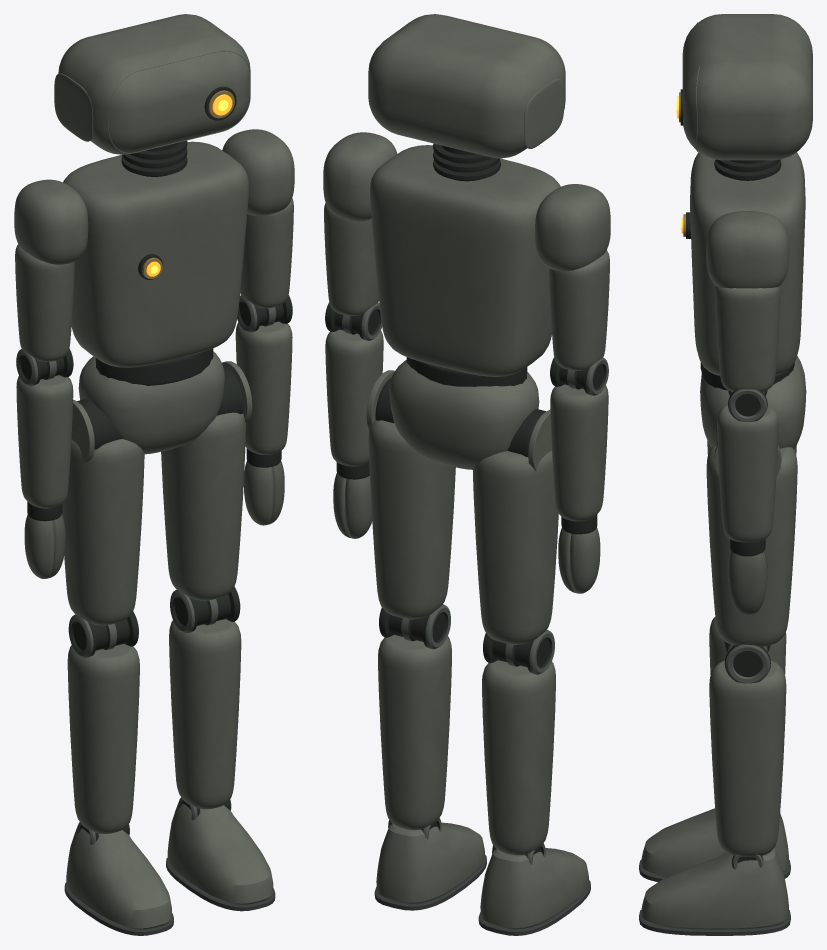
Rendered from workstation-guide.glb.
3 renders of one model, left to right at view 1: azimuth 30°, elevation 25°; view 2: azimuth 150°, elevation 25°; view 3: azimuth 270°, elevation 25°, orthographic. The views are drawn at different scales.
Visible parts, largest first — view 1: TorsoShell, HeadShell, ThighShell_R, ThighShell_L, CalfShell_L, CalfShell_R, PelvisShell, FootShell_L, FootShell_R, ForearmShell_R, ForearmShell_L, UpperArmShell_R (+20 smaller); view 2: TorsoShell, HeadShell, ThighShell_R, ThighShell_L, CalfShell_R, CalfShell_L, PelvisShell, ForearmShell_R, FootShell_R, FootShell_L, ForearmShell_L, UpperArmShell_R (+18 smaller); view 3: HeadShell, CalfShell_L, TorsoShell, FootShell_L, ThighShell_L, ForearmShell_L, UpperArmShell_L, ShoulderShell_L, FootShell_R, PelvisShell, HandClampInner_L, KneeJoint_L (+7 smaller).
Boxes of the visible parts, bbox=[...] form: TorsoShell: bbox=[63, 141, 248, 367]; HeadShell: bbox=[58, 14, 250, 154]; ThighShell_R: bbox=[62, 439, 144, 625]; ThighShell_L: bbox=[161, 412, 245, 600]; CalfShell_L: bbox=[169, 619, 241, 809]; CalfShell_R: bbox=[67, 643, 139, 833]; PelvisShell: bbox=[78, 351, 224, 454]; FootShell_L: bbox=[167, 798, 273, 904]; FootShell_R: bbox=[66, 823, 171, 929]; ForearmShell_R: bbox=[16, 375, 73, 508]; ForearmShell_L: bbox=[235, 321, 292, 454]; UpperArmShell_R: bbox=[15, 244, 74, 361]; TorsoShell: bbox=[370, 145, 560, 376]; HeadShell: bbox=[368, 14, 565, 158]; ThighShell_R: bbox=[473, 450, 558, 644]; ThighShell_L: bbox=[368, 419, 455, 619]; CalfShell_R: bbox=[482, 660, 555, 855]; CalfShell_L: bbox=[378, 635, 451, 829]; PelvisShell: bbox=[389, 360, 539, 469]; ForearmShell_R: bbox=[550, 384, 608, 521]; FootShell_R: bbox=[480, 848, 588, 929]; FootShell_L: bbox=[376, 822, 484, 903]; ForearmShell_L: bbox=[325, 329, 383, 466]; UpperArmShell_R: bbox=[549, 250, 609, 370]; HeadShell: bbox=[682, 14, 812, 160]; CalfShell_L: bbox=[709, 660, 786, 856]; TorsoShell: bbox=[690, 152, 805, 375]; FootShell_L: bbox=[641, 848, 788, 929]; ThighShell_L: bbox=[706, 446, 797, 646]; ForearmShell_L: bbox=[717, 404, 778, 542]; UpperArmShell_L: bbox=[715, 285, 780, 391]; ShoulderShell_L: bbox=[706, 211, 789, 288]; FootShell_R: bbox=[641, 808, 788, 876]; PelvisShell: bbox=[700, 356, 806, 448]; HandClampInner_L: bbox=[728, 551, 767, 614]; KneeJoint_L: bbox=[724, 641, 770, 683].
Size of the model in its own units: 0.5789 by 1.75 by 0.323.
Materials: 9 (1 with a texture image).
